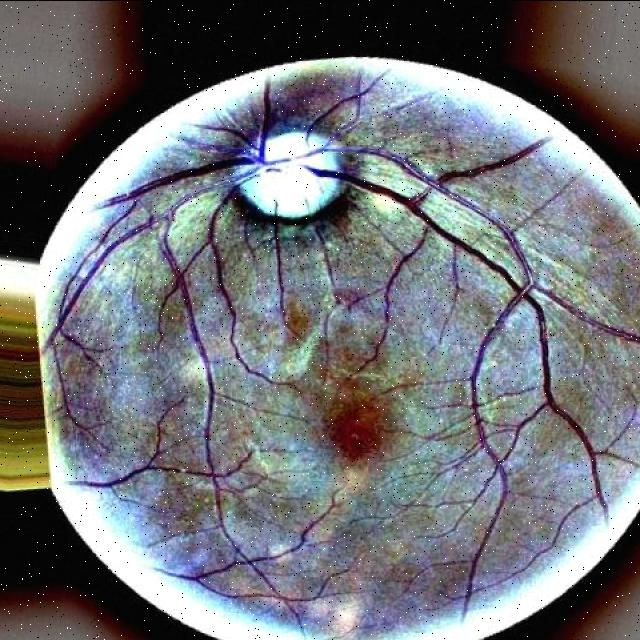Macula: (327, 391, 384, 463)
Nerves: (103, 83, 547, 480), (47, 207, 141, 345), (268, 223, 289, 329)
Optic Disk: (241, 131, 341, 219)
